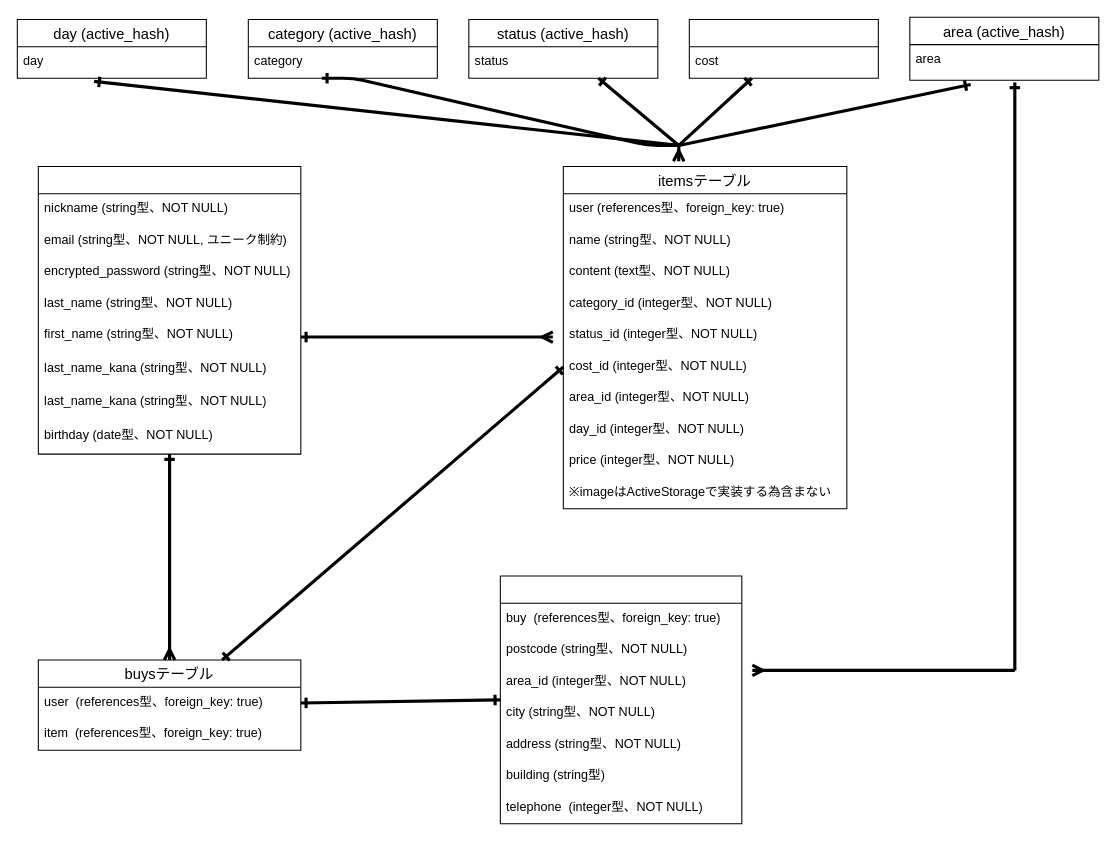
Image size: 1116x841. Some labels were removed from this diagram. The box of each missing label's shape, as (x1, y1, x2, y2) in pixels:
cost (active_hash): (688, 18, 878, 78)
deliveriesテーブル: (499, 575, 742, 824)
usersテーブル: (37, 165, 301, 454)
